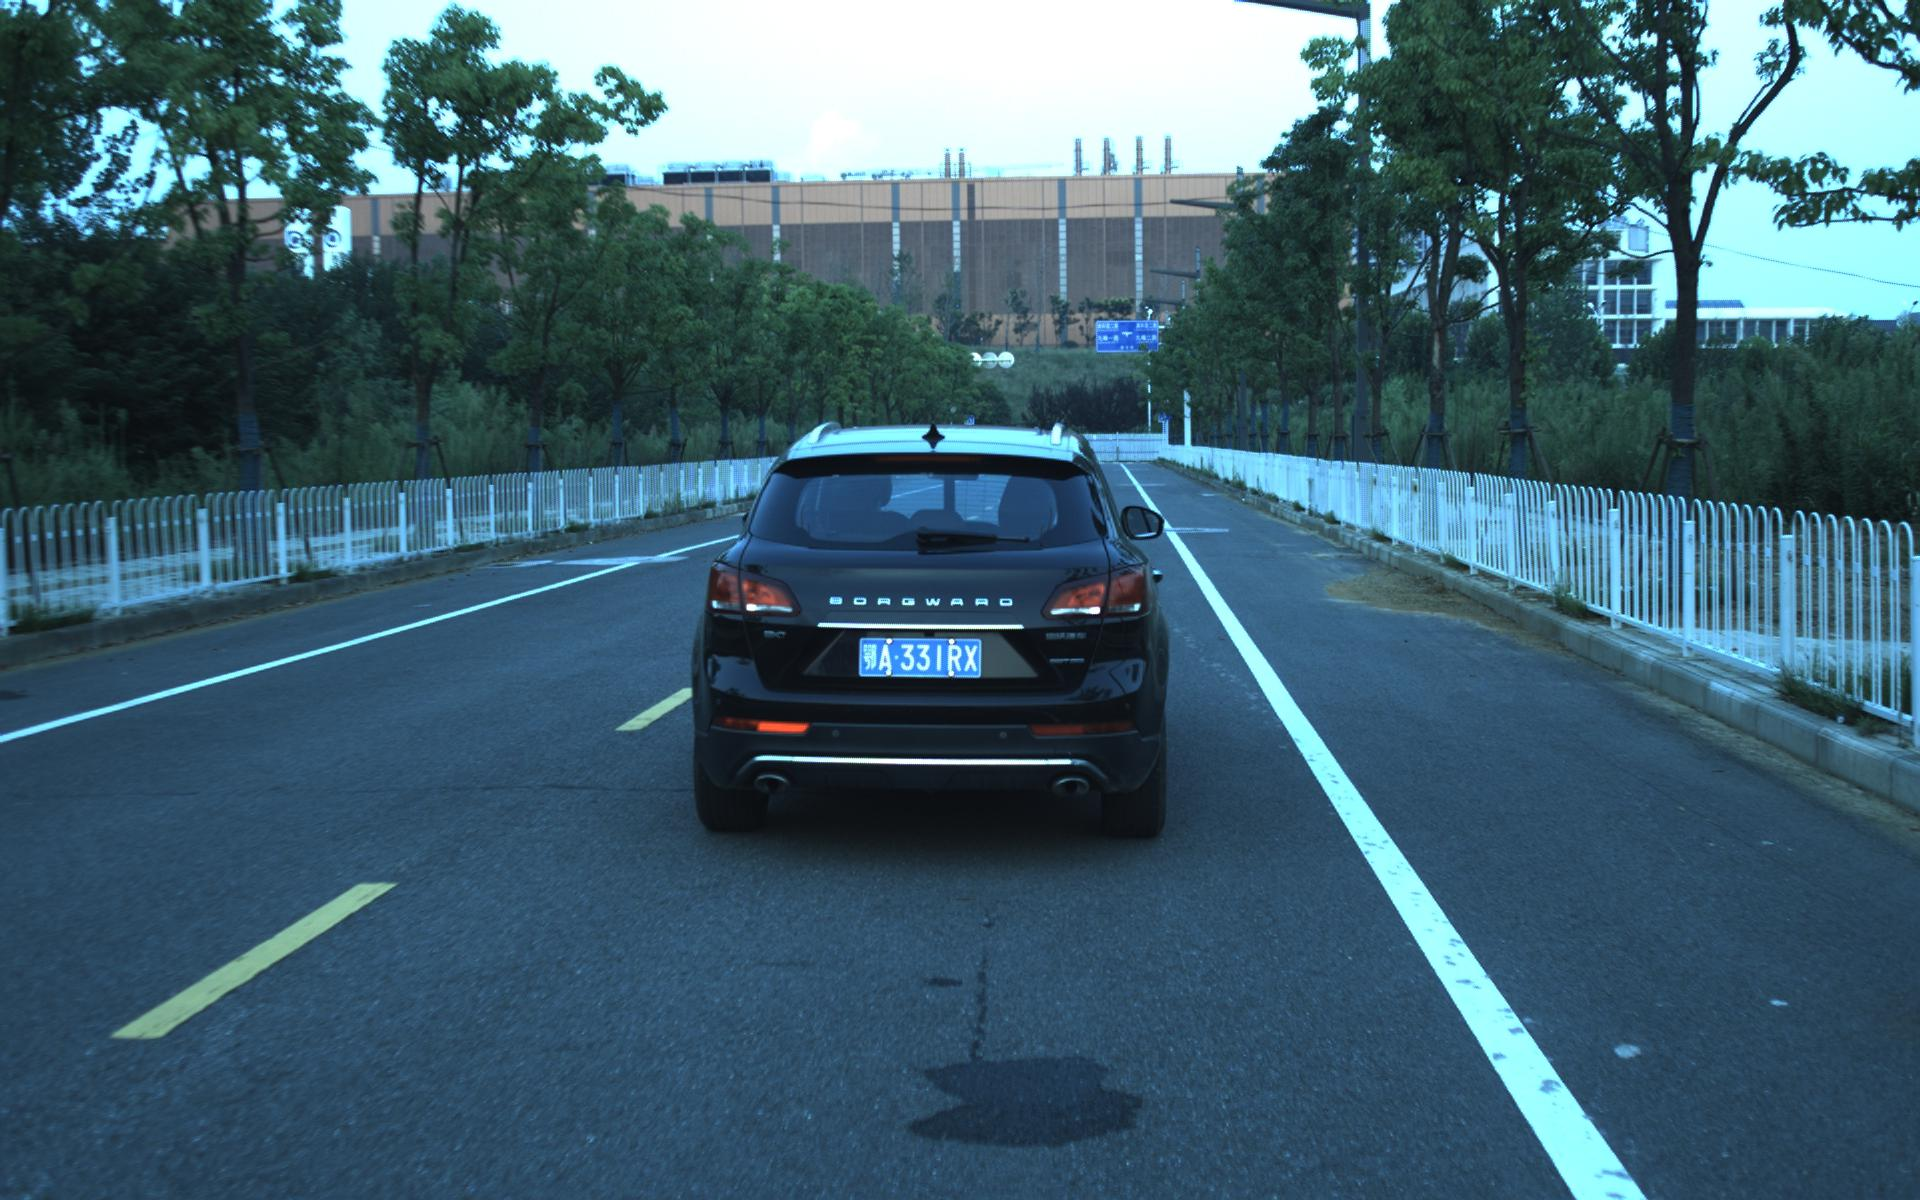Car: (681, 415, 1171, 853)
